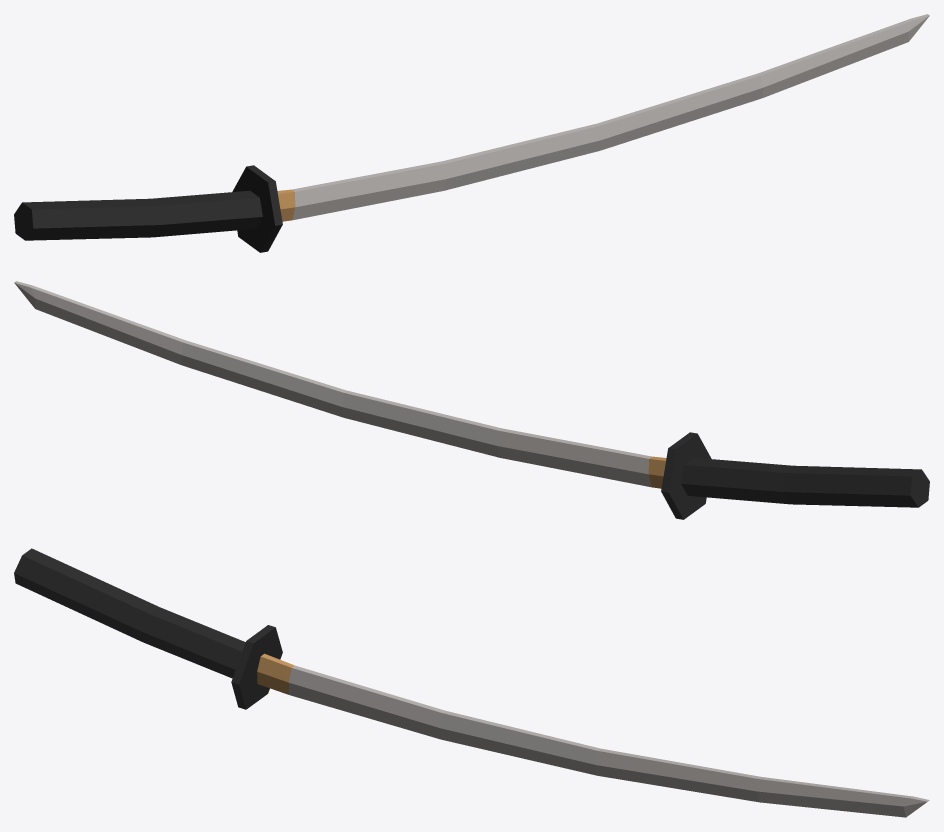
File: japan-katana.glb
3 views of the same model, one above another, from view 1: azimuth 30°, elevation 25°; view 2: azimuth 150°, elevation 25°; view 3: azimuth 330°, elevation 25° (orthographic).
Visible parts, largest first — view 1: katana; view 2: katana; view 3: katana.
Boxes of the visible parts, box(x1,y1,x2,y2) form: katana: box(14, 14, 929, 252); katana: box(14, 281, 929, 519); katana: box(14, 548, 929, 817).
Bounding box in the file's own units: 1.27 × 0.1254 × 0.1064.
